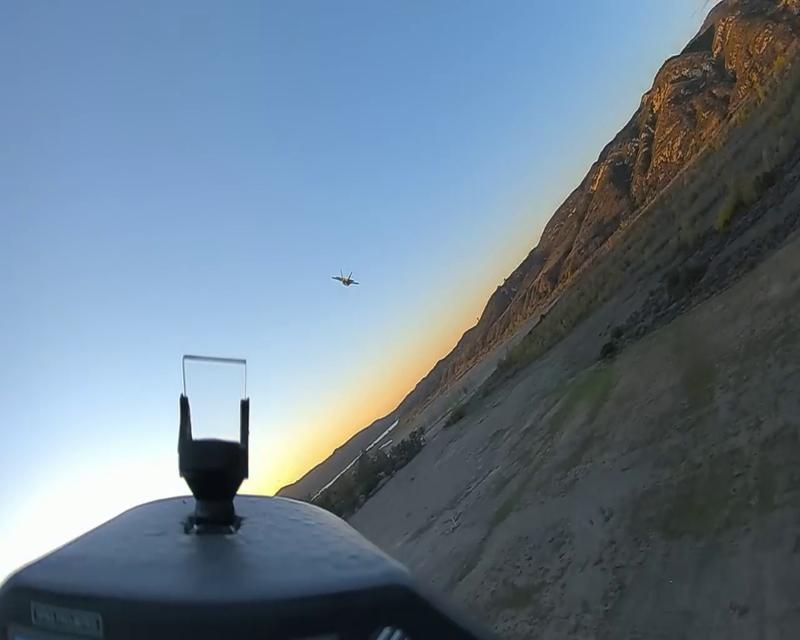UAV: (331, 269, 360, 289)
